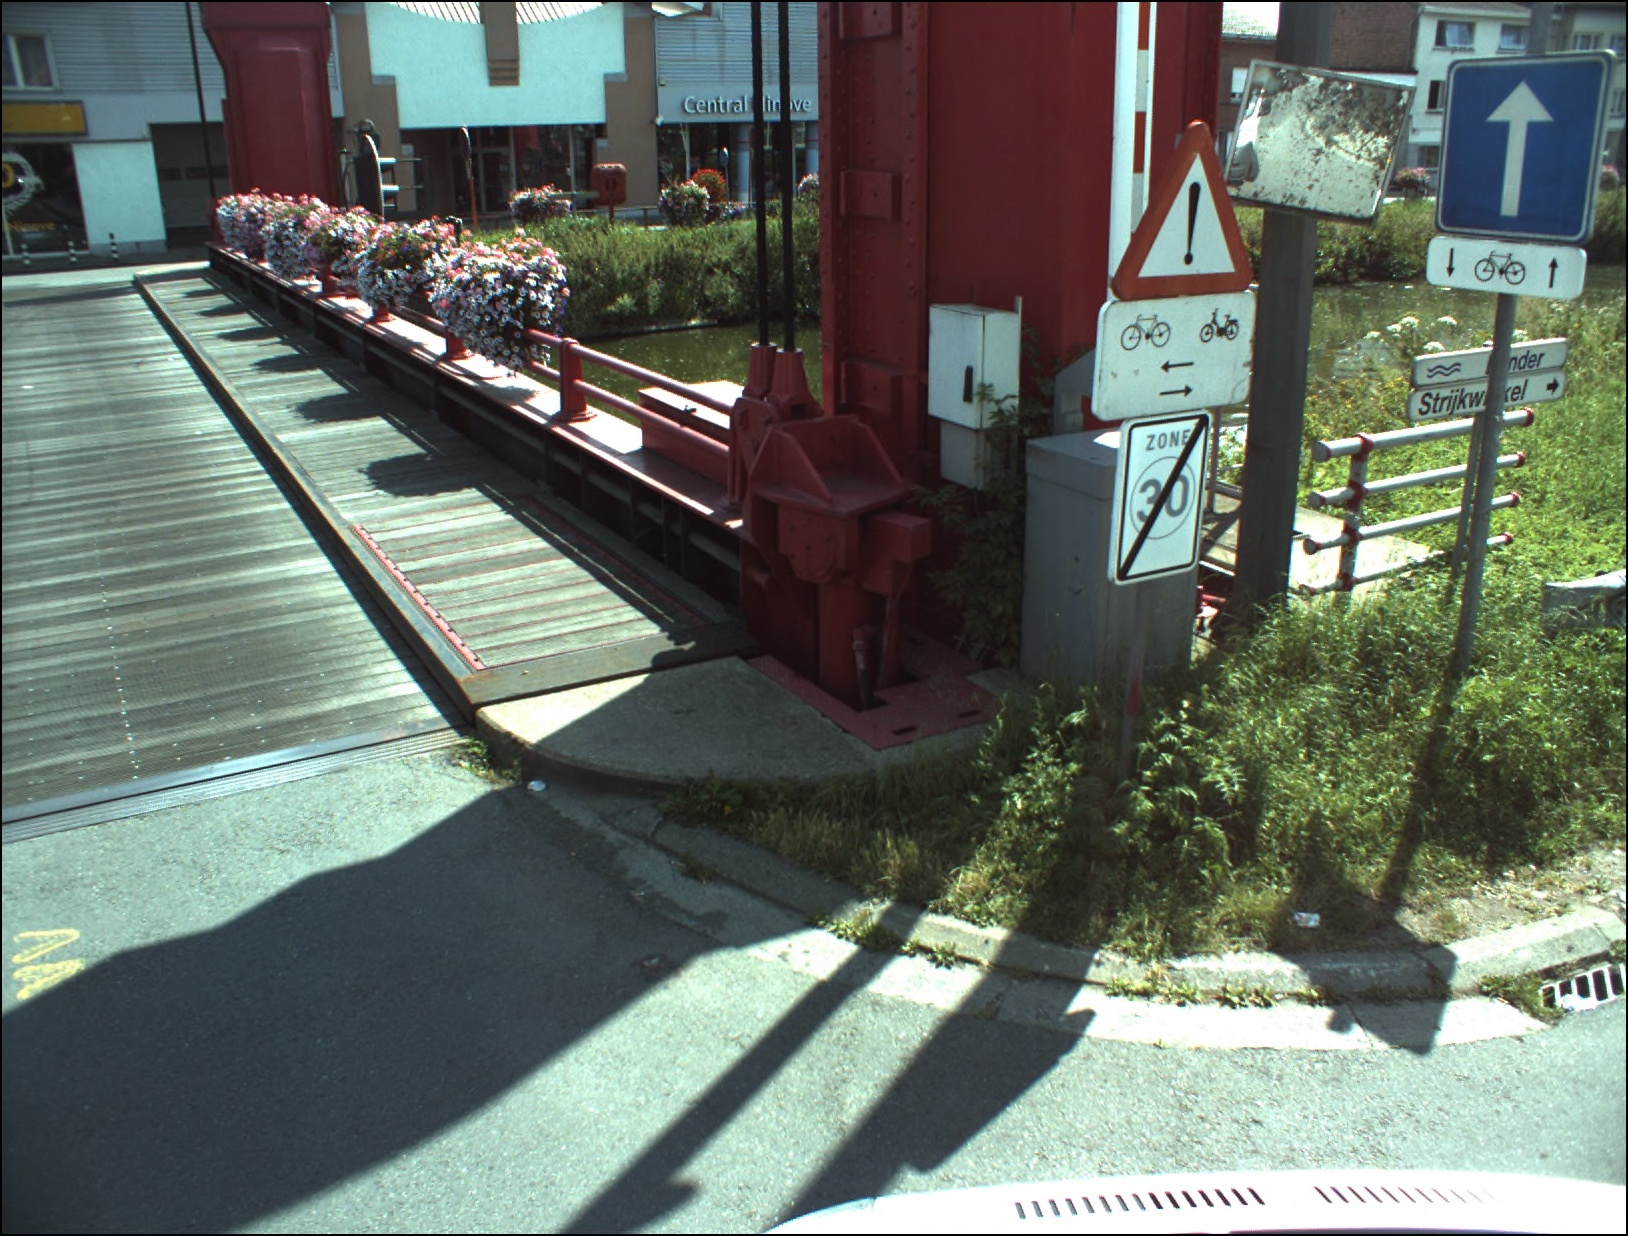danger: (1118, 119, 1252, 293)
oneway: (1437, 56, 1606, 236)
